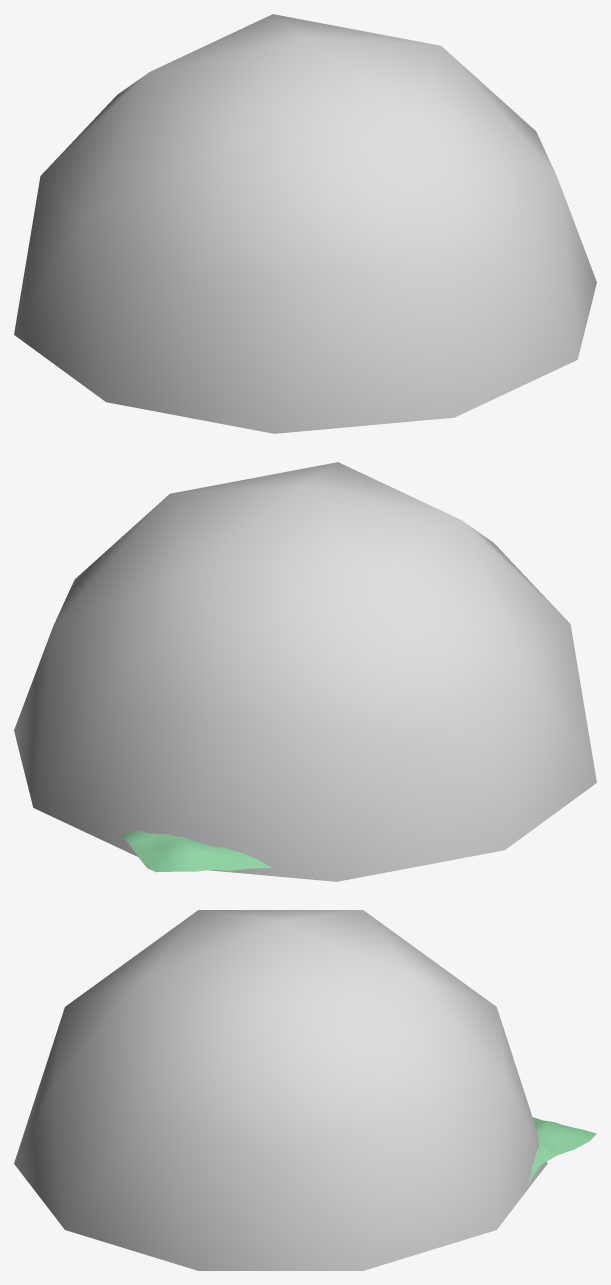
The model's file is DrawingRoomV1.fbx.
3 renders of one model, top to bottom at view 1: azimuth 30°, elevation 25°; view 2: azimuth 150°, elevation 25°; view 3: azimuth 270°, elevation 25°, orthographic. The views are drawn at different scales.
Parts seen in each view (by area): view 1: SKYDOME; view 2: SKYDOME, BACKGROUND HILLS; view 3: SKYDOME, BACKGROUND HILLS.
Part boxes in pixels (x1=…): SKYDOME: x1=14, y1=14, x2=596, y2=433; SKYDOME: x1=14, y1=462, x2=596, y2=881; BACKGROUND HILLS: x1=112, y1=831, x2=272, y2=872; SKYDOME: x1=14, y1=910, x2=547, y2=1270; BACKGROUND HILLS: x1=528, y1=1117, x2=596, y2=1183.
Size of the model in its own units: 9120 by 5228 by 10475.
